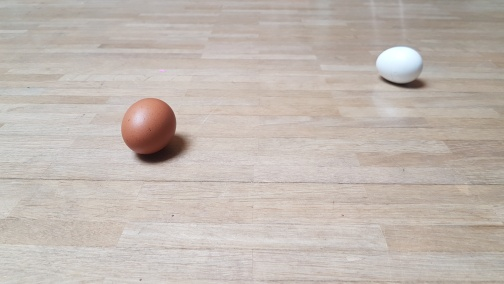egg: (120, 97, 178, 155), (374, 45, 424, 85)
